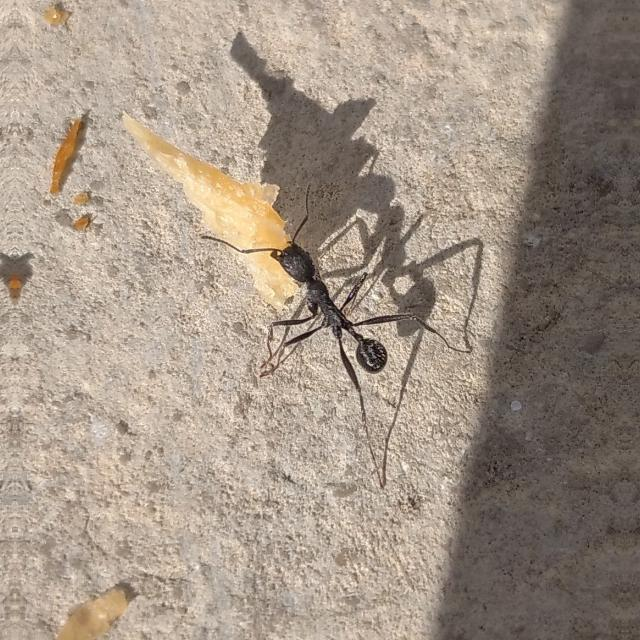Apheanogaster: (246, 212, 409, 392)
